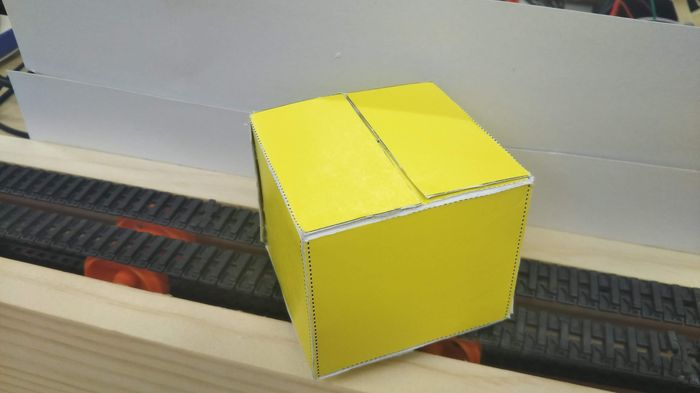box4: (246, 78, 532, 376)
